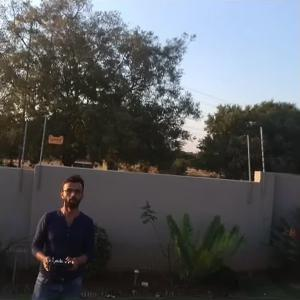follow: (25, 171, 97, 299)
